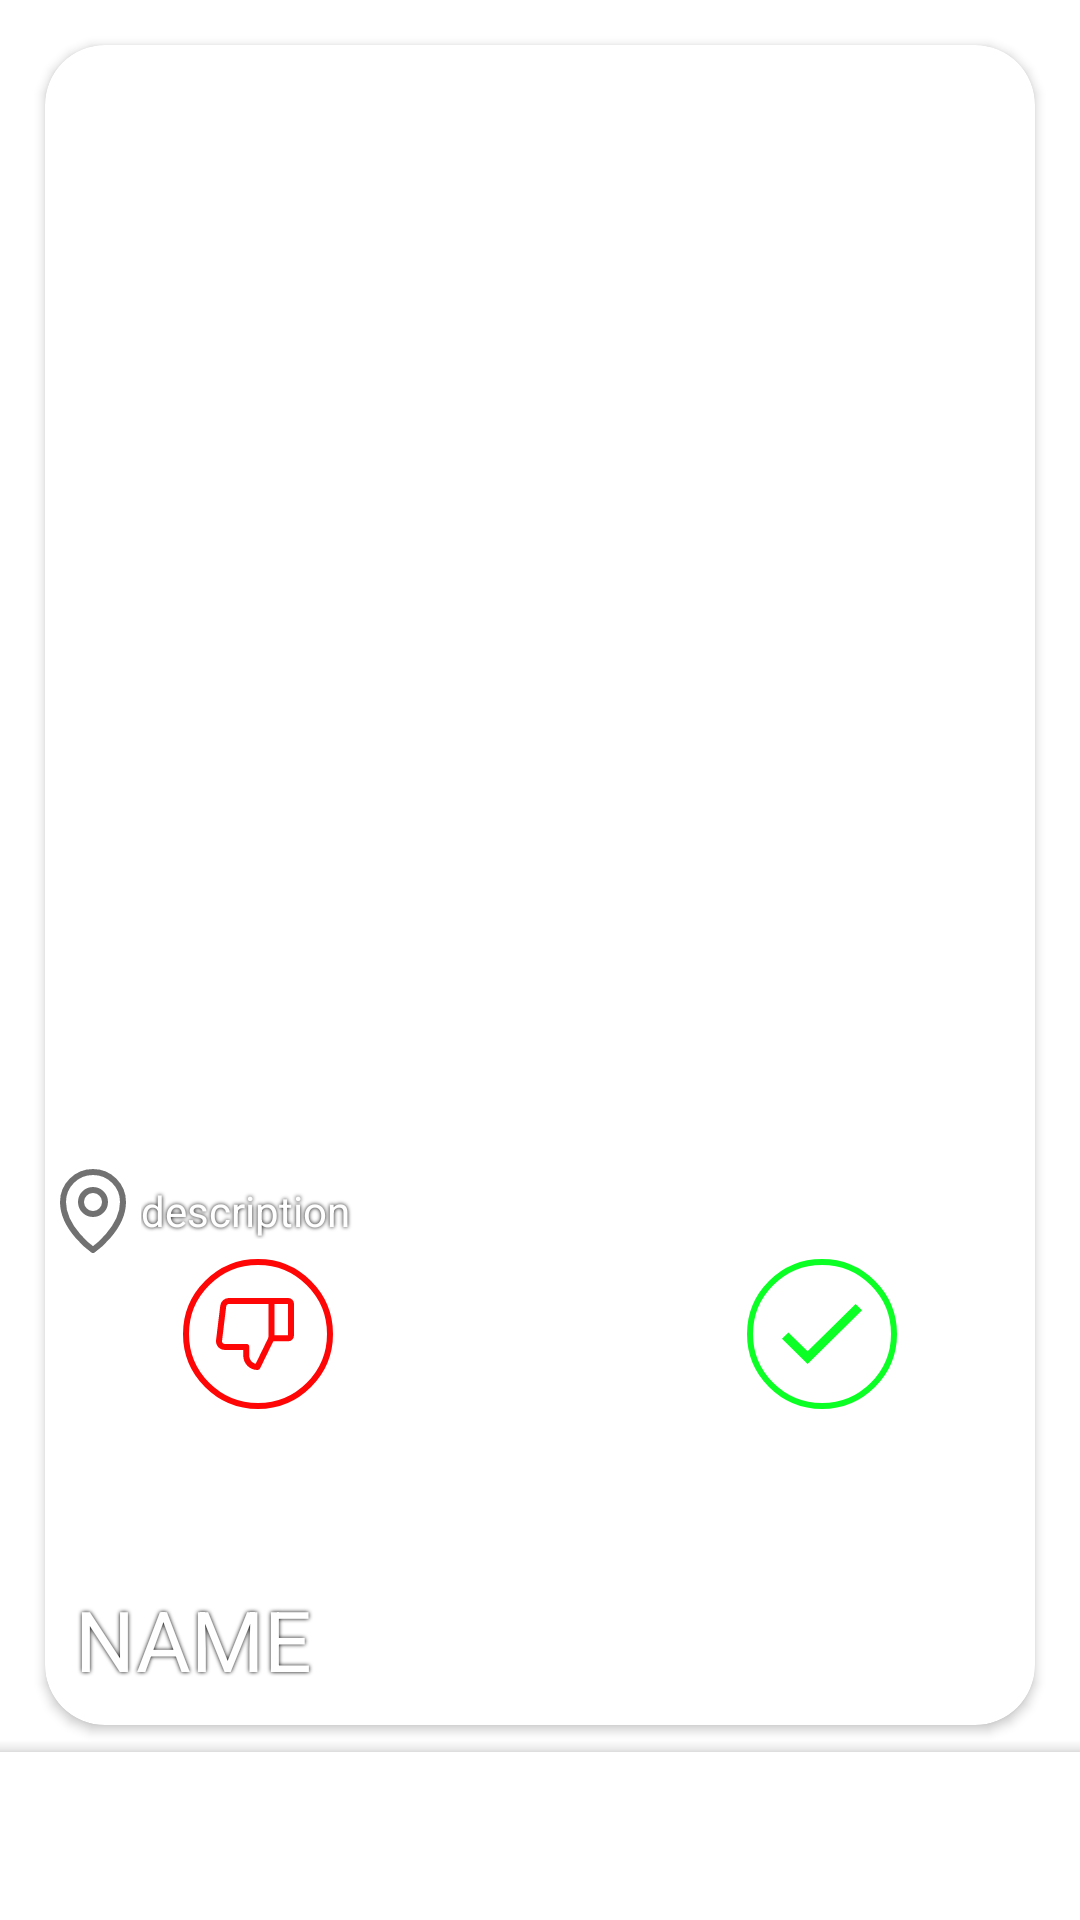

Locate icon controls on the screen. Image size 1080px×1920px, boxes as bbox(x1, y1, x2, y2).
swipe dislike: bbox(183, 1259, 333, 1409)
swipe like: bbox(747, 1259, 897, 1409)
swipe map pin: bbox(60, 1169, 126, 1253)
